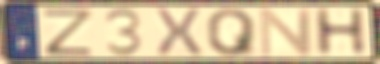3: (103, 7, 145, 57)
H: (311, 7, 370, 58)
N: (257, 7, 315, 58)
Q: (204, 7, 260, 58)
X: (152, 6, 206, 58)
Z: (40, 7, 97, 57)
